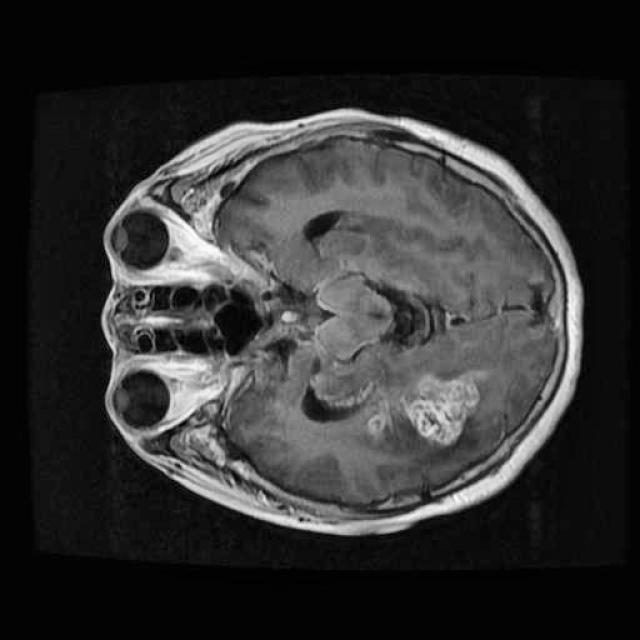Tumor: (353, 344, 505, 468)
